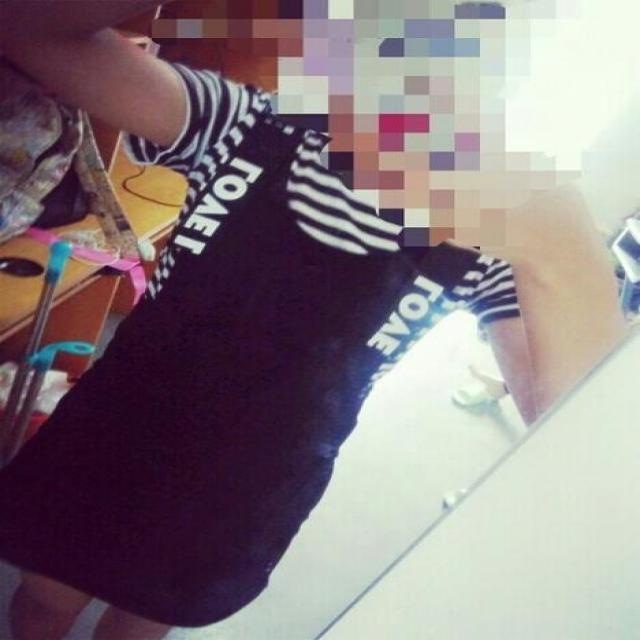short-sleeve-dress: (130, 43, 370, 618)
